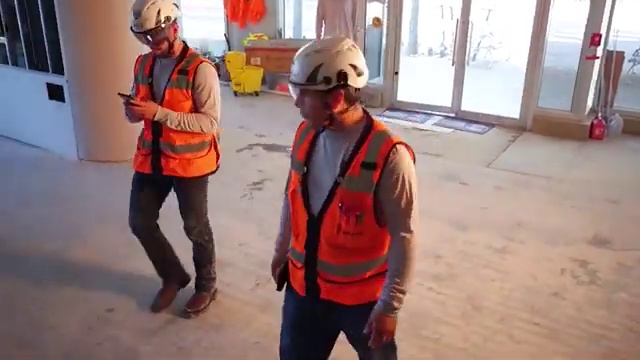helmet: (277, 33, 377, 92), (123, 1, 194, 40)
jacket: (290, 114, 399, 308), (121, 50, 236, 177)
